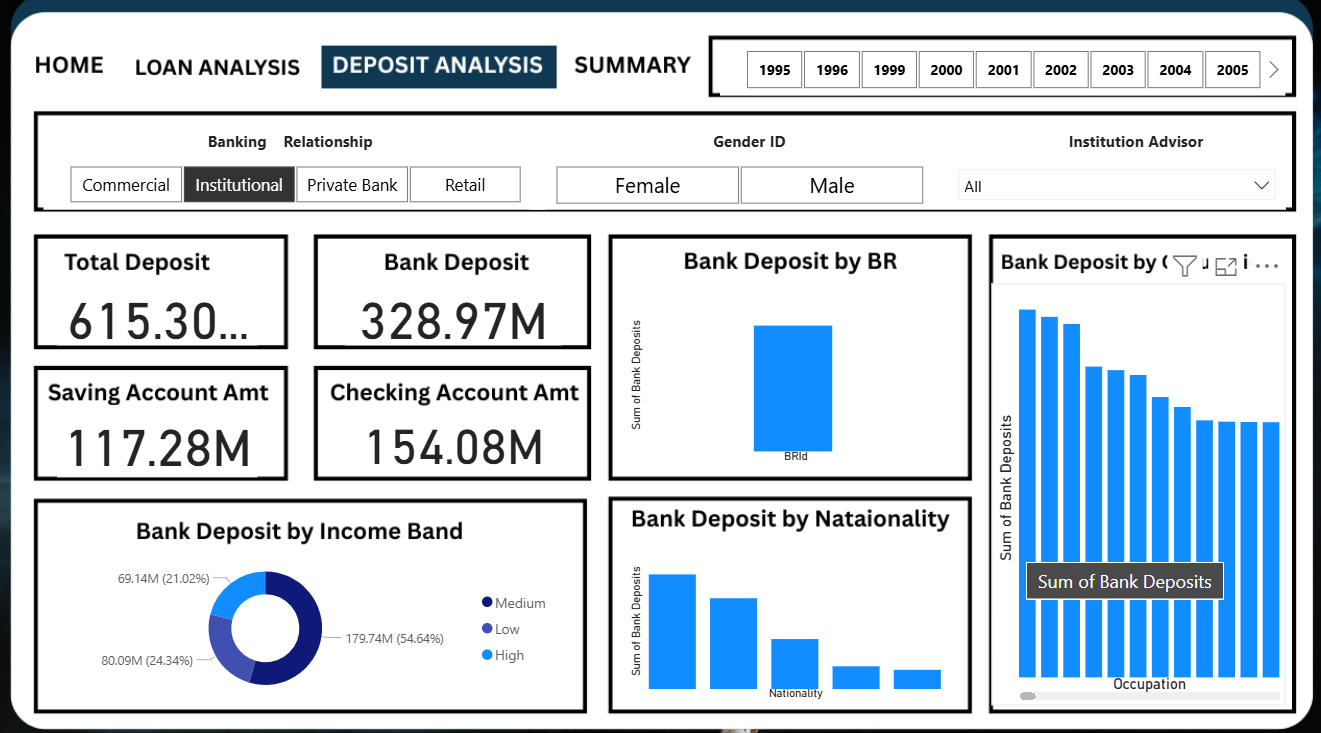

This screenshot's page, from the dashboard's own definition file:
{"tool":"powerbi","page":{"name":"Deposit Analysis","canvas":[1280,720],"ordinal":3},"visuals":[{"type":"actionButton","box":[28.8,43.1,100.7,40.3],"z":0},{"type":"actionButton","box":[129.4,43.1,185.5,40.3],"z":1000},{"type":"actionButton","box":[550.8,43.1,119.4,40.3],"z":2000},{"type":"slicer","fields":{"Values":["Banking_Clients.Joined Bank.Variation.Date Hierarchy.Year"]},"box":[696.5,43.9,542.1,50],"z":3000},{"type":"actionButton","box":[38.8,53.1,100.7,40.3],"z":4000},{"type":"actionButton","box":[323.6,43.1,208.5,40.3],"z":5000},{"type":"actionButton","box":[48.8,63.1,100.7,40.3],"z":6000},{"type":"actionButton","box":[539.3,43.1,132.3,40.3],"z":7000},{"type":"card","fields":{"Values":["Banking_Clients.Total Deposit"]},"box":[60.6,274.1,192.3,59.1],"z":8000},{"type":"card","fields":{"Values":["Sum(Banking_Clients.Bank Deposits)"]},"box":[336.2,274.1,207.4,59.1],"z":9000},{"type":"card","fields":{"Values":["Sum(Banking_Clients.Checking Accounts)"]},"box":[336.2,395.2,207.4,59.1],"z":10000},{"type":"card","fields":{"Values":["Sum(Banking_Clients.Saving Accounts)"]},"box":[60.6,390.7,192.3,69.7],"z":11000},{"type":"donutChart","fields":{"Category":["Banking_Clients.Income Band"],"Y":["Sum(Banking_Clients.Bank Deposits)"]},"box":[46.9,530,496.7,148.4],"z":12000},{"type":"clusteredColumnChart","fields":{"Category":["Banking_Clients.BRId"],"Y":["Sum(Banking_Clients.Bank Deposits)"]},"box":[605.7,274.1,308.9,175.6],"z":13000},{"type":"clusteredColumnChart","fields":{"Category":["Banking_Clients.Nationality"],"Y":["Sum(Banking_Clients.Bank Deposits)"]},"box":[605.7,519.4,308.9,159],"z":14000},{"type":"clusteredColumnChart","fields":{"Category":["Banking_Clients.Occupation"],"Y":["Sum(Banking_Clients.Bank Deposits)"]},"box":[957,274.1,281.6,404.3],"z":15000},{"type":"slicer","fields":{"Values":["Banking_Clients.BRId"]},"box":[46.9,156,481.5,48.5],"z":16000},{"type":"slicer","fields":{"Values":["Banking_Clients.GenderId"]},"box":[513.3,156,401.3,48.5],"z":17000},{"type":"slicer","fields":{"Values":["Banking_Clients.IAId"]},"box":[914.6,156,324,48.5],"z":18000},{"type":"textbox","box":[199.9,122.7,190.8,33.3],"z":19000},{"type":"textbox","box":[1025.1,122.7,146.9,33.3],"z":20000},{"type":"textbox","box":[684.4,122.7,89.3,33.3],"z":21000}]}

Visuals, with their boxes in screenshot pixels (x1, y1, x2, y2), scaled from the page's 1280x720 canvas onto the 1321x733 screenshot:
actionButton: 30:44:134:85
actionButton: 134:44:325:85
actionButton: 568:44:692:85
slicer - Banking_Clients.Joined Bank.Variation.Date Hierarchy.Year: 719:45:1278:96
actionButton: 40:54:144:95
actionButton: 334:44:549:85
actionButton: 50:64:154:105
actionButton: 557:44:693:85
card - Banking_Clients.Total Deposit: 63:279:261:339
card - Sum(Banking_Clients.Bank Deposits): 347:279:561:339
card - Sum(Banking_Clients.Checking Accounts): 347:402:561:463
card - Sum(Banking_Clients.Saving Accounts): 63:398:261:469
donutChart - Banking_Clients.Income Band x Sum(Banking_Clients.Bank Deposits): 48:540:561:691
clusteredColumnChart - Banking_Clients.BRId x Sum(Banking_Clients.Bank Deposits): 625:279:944:458
clusteredColumnChart - Banking_Clients.Nationality x Sum(Banking_Clients.Bank Deposits): 625:529:944:691
clusteredColumnChart - Banking_Clients.Occupation x Sum(Banking_Clients.Bank Deposits): 988:279:1278:691
slicer - Banking_Clients.BRId: 48:159:545:208
slicer - Banking_Clients.GenderId: 530:159:944:208
slicer - Banking_Clients.IAId: 944:159:1278:208
textbox: 206:125:403:159
textbox: 1058:125:1210:159
textbox: 706:125:798:159
